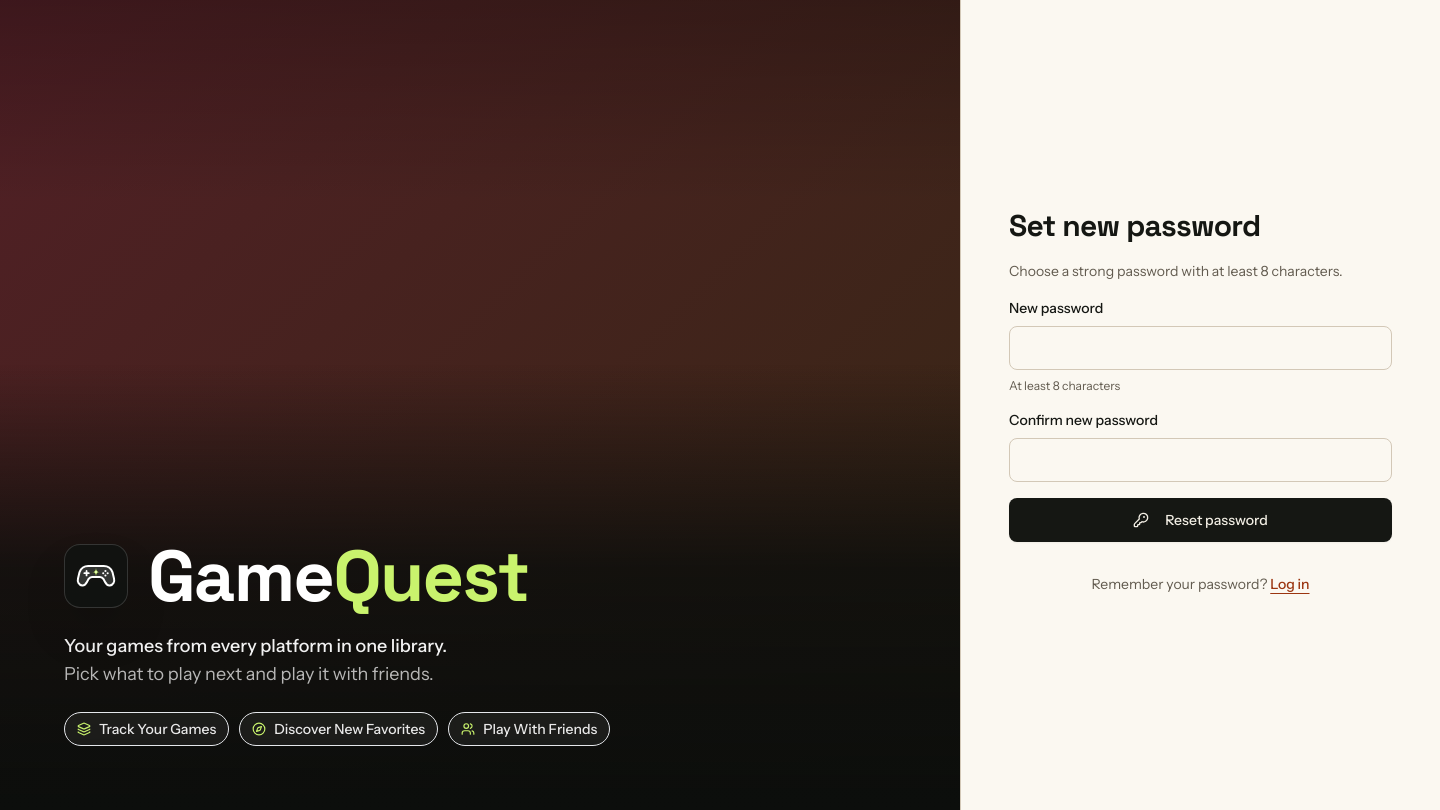
Scenario: ResetPassword Page › validates password length and password match
Type "short" into the password field labelled "New password" at coordinates (1200, 348), box [1009,326,1392,370]
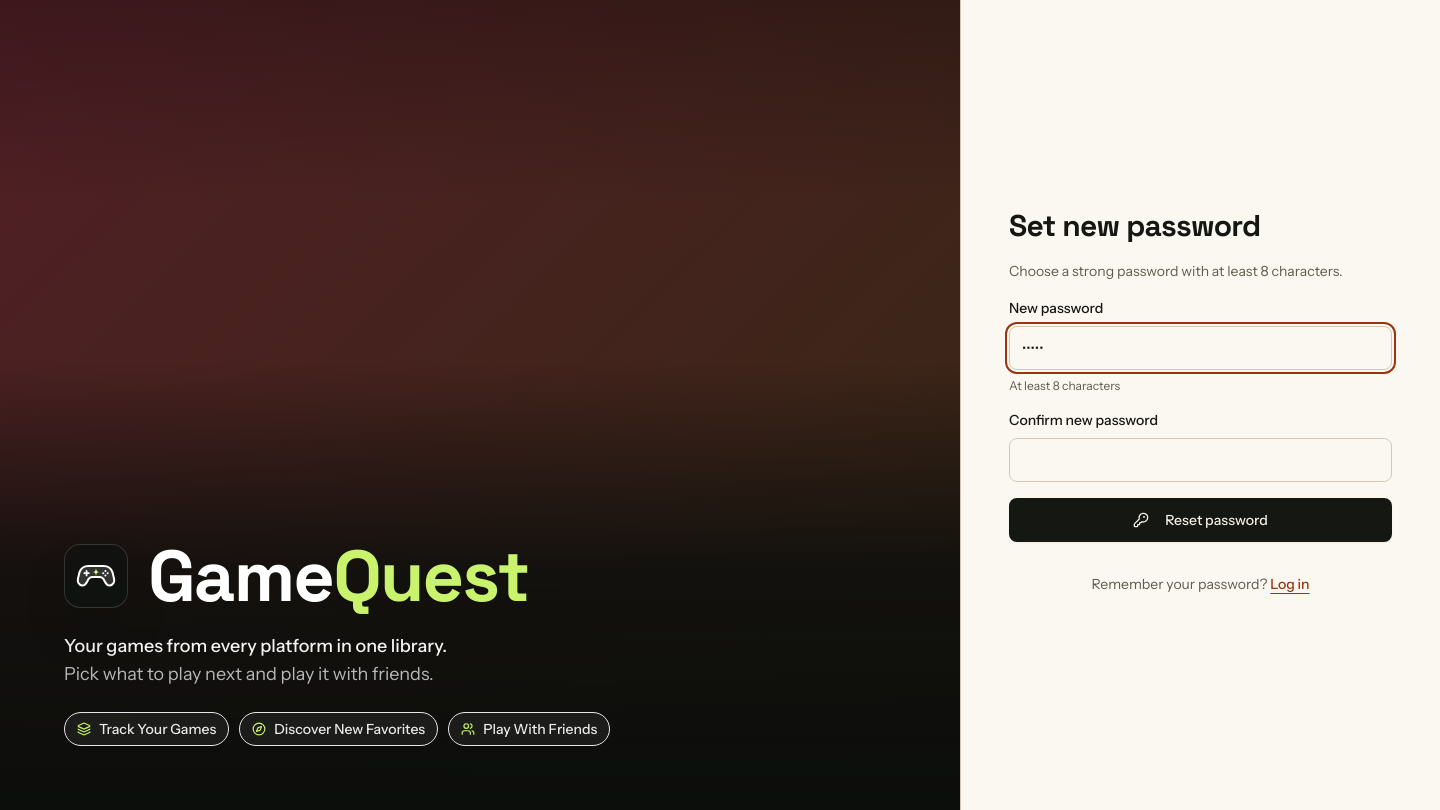
Type "different-password" into the password field labelled "Confirm new password" at coordinates (1200, 460), box [1009,438,1392,482]
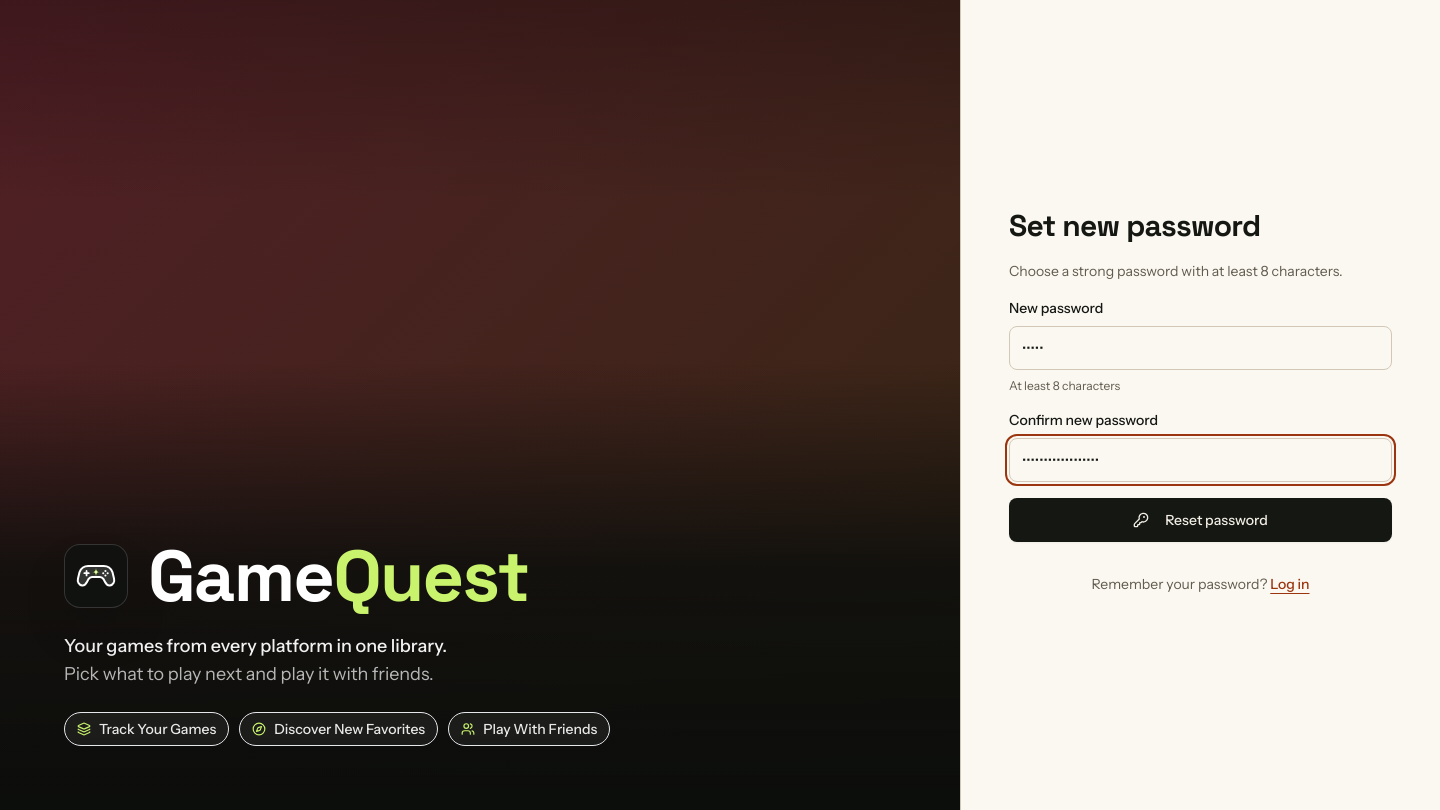
Click the button "Reset password" at coordinates (1200, 520), box [1009,498,1392,542]
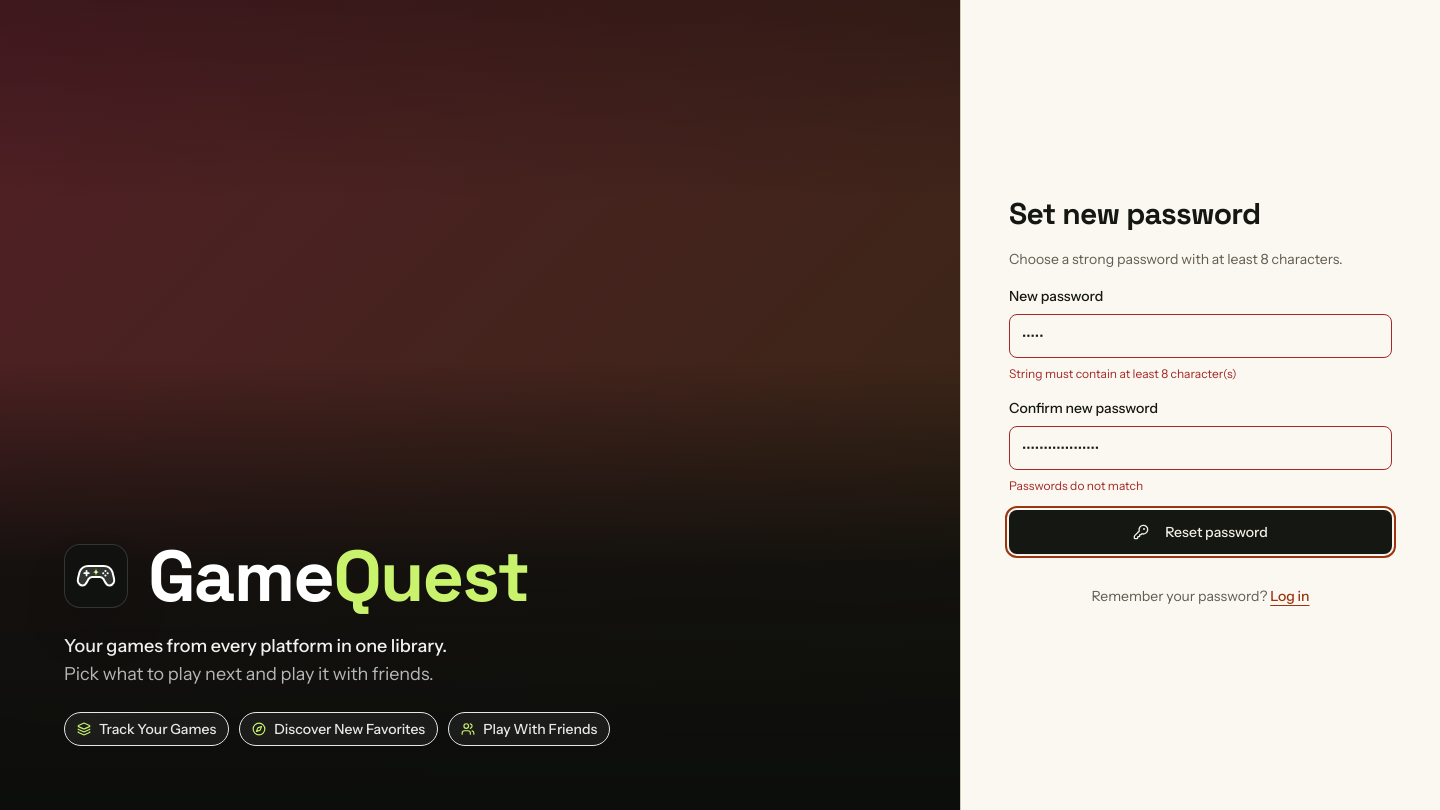
Check: the text "Choose a strong password with at least 8 characters." is shown, box [1009,248,1392,270]
Check: the text "Passwords do not match" is shown, box [1009,478,1143,493]
